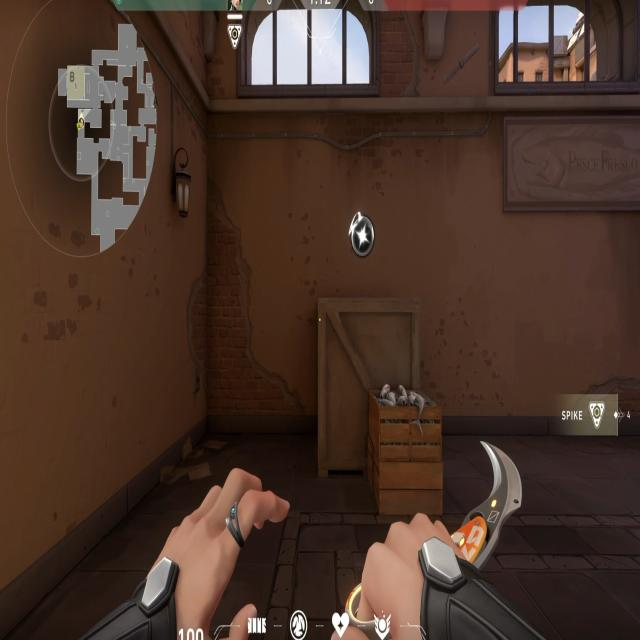B_Main_Wallbang: (249, 200, 385, 464)
